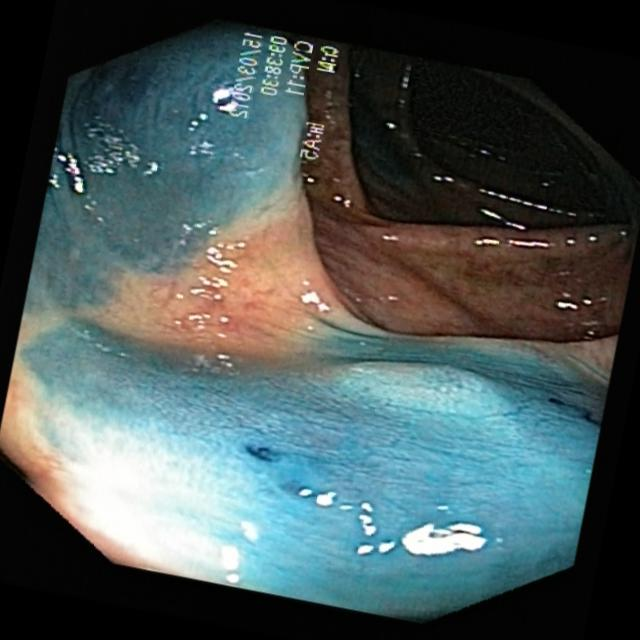dyed-lifted-polyps: (343, 347, 526, 418)
